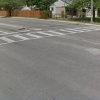Crosswalk: (7, 23, 81, 48)
